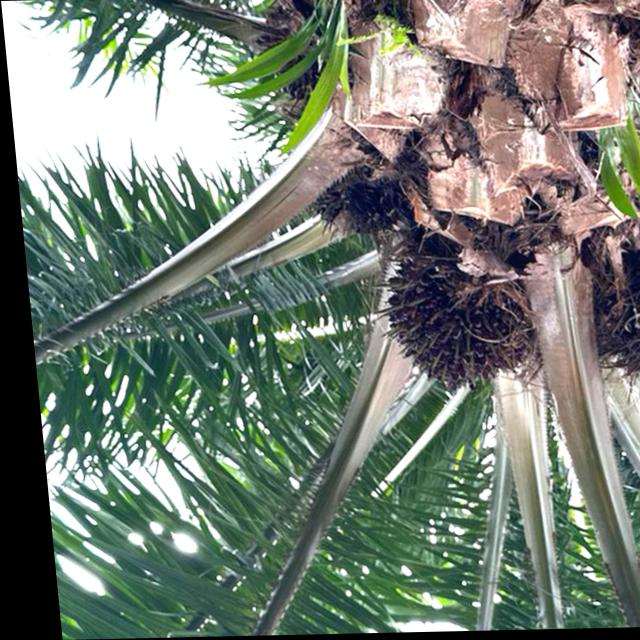almost: (360, 243, 540, 404)
